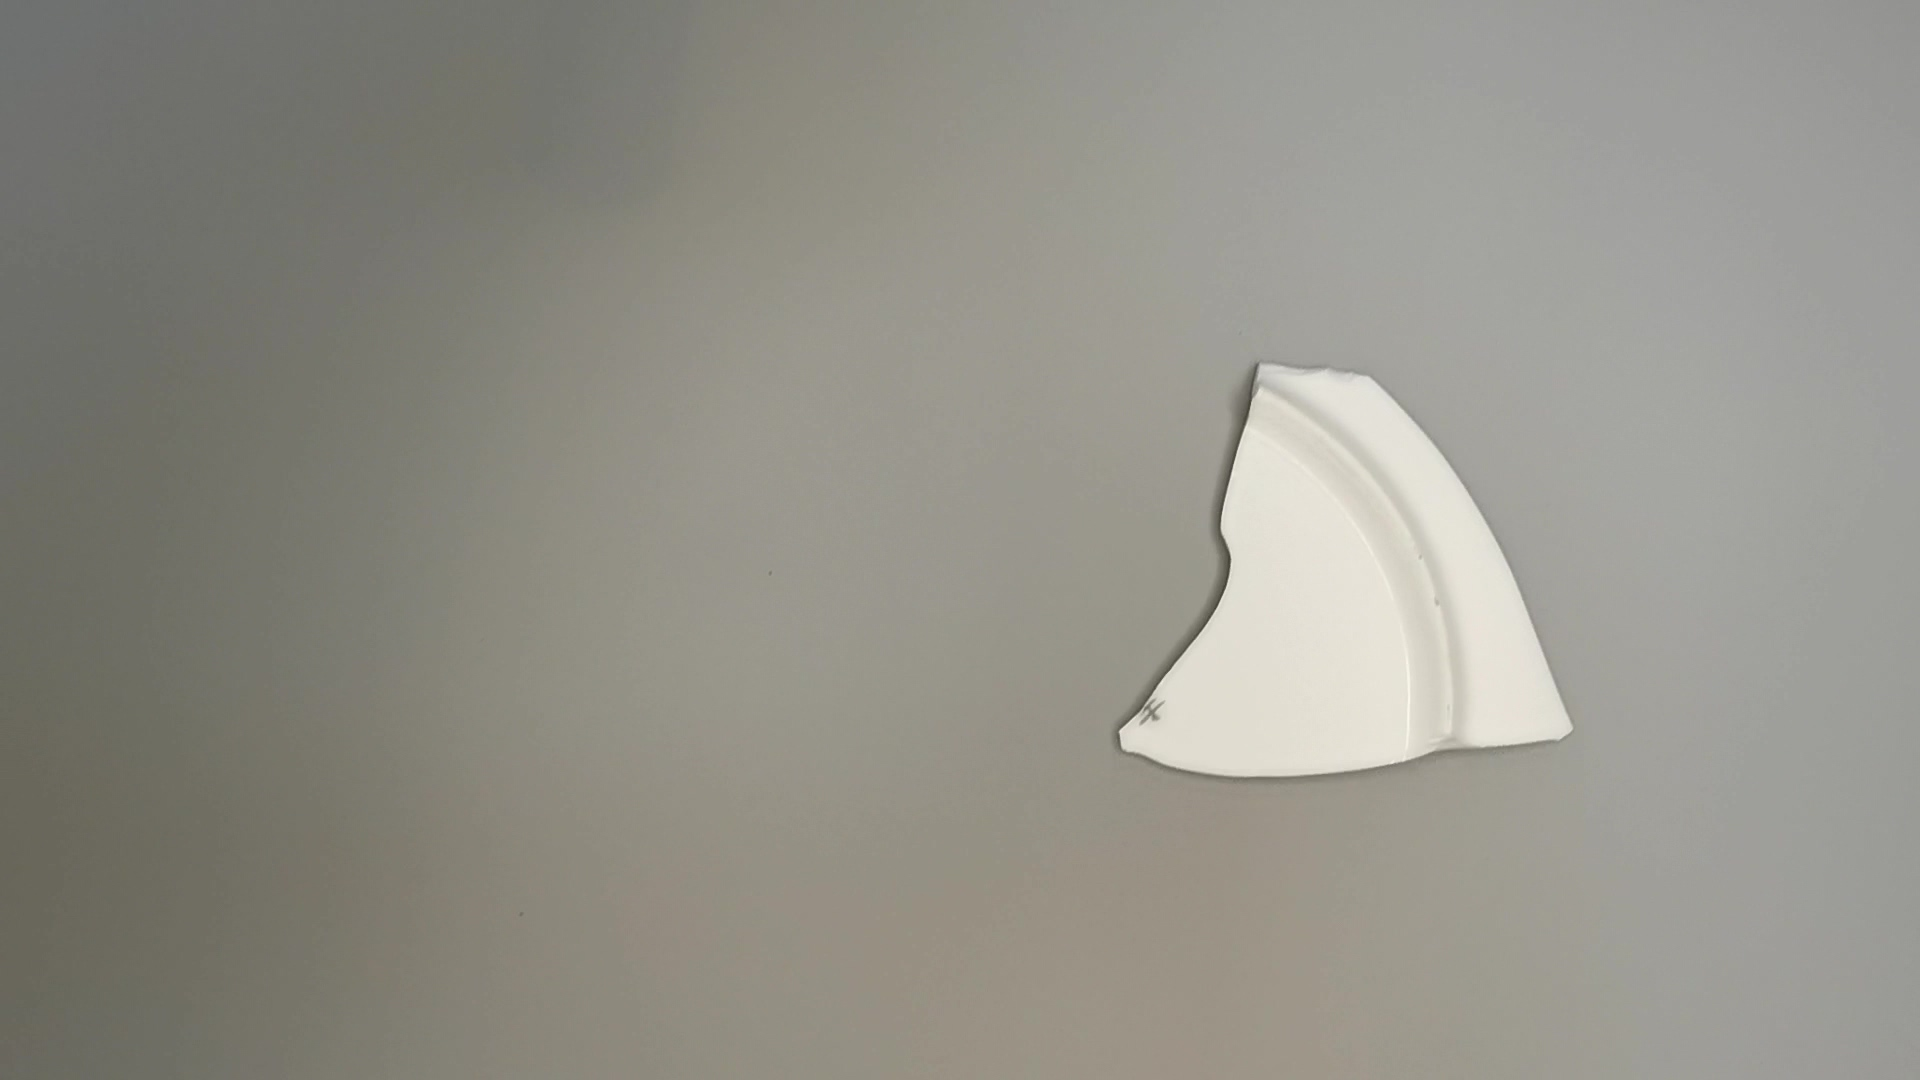ceramic: (1124, 357, 1563, 775)
